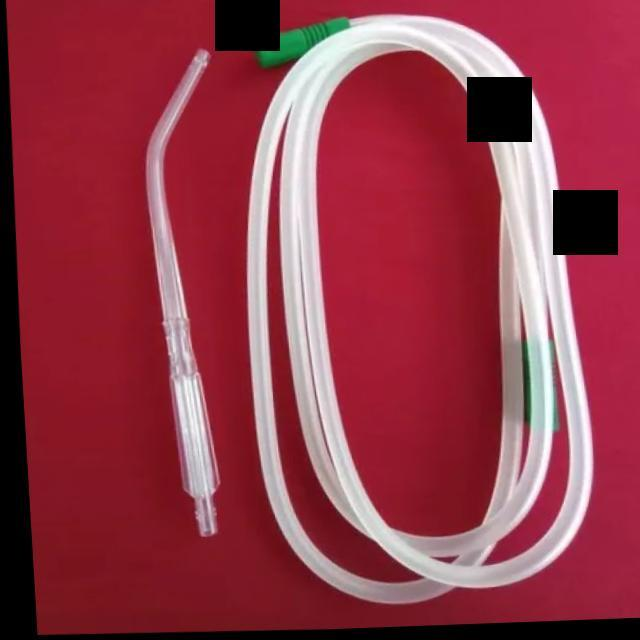Suction Tube Nozzle: (128, 6, 606, 618)
